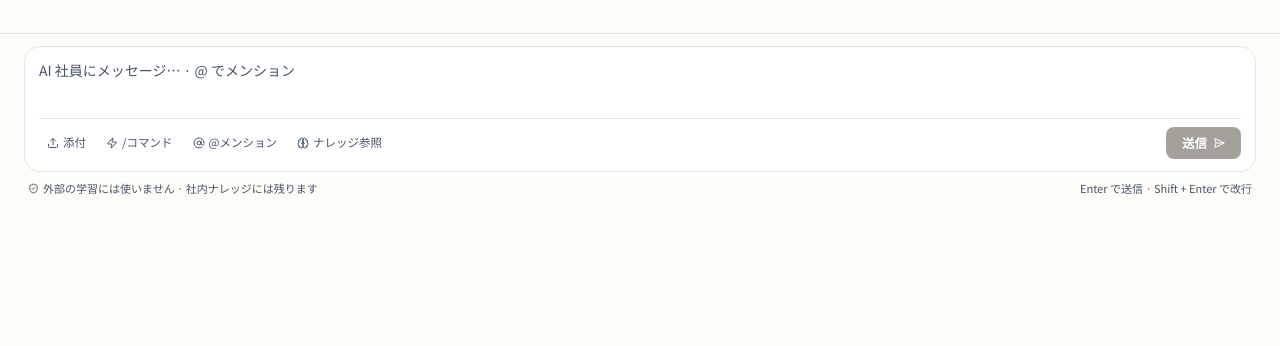
Test: GAP-189 中断 › 中断はエラー表示にしない（失敗ではない）
The image size is (1280, 346).
In the text box named "メッセージを入力": (640, 82) [39, 59, 1241, 104], type "やあ"
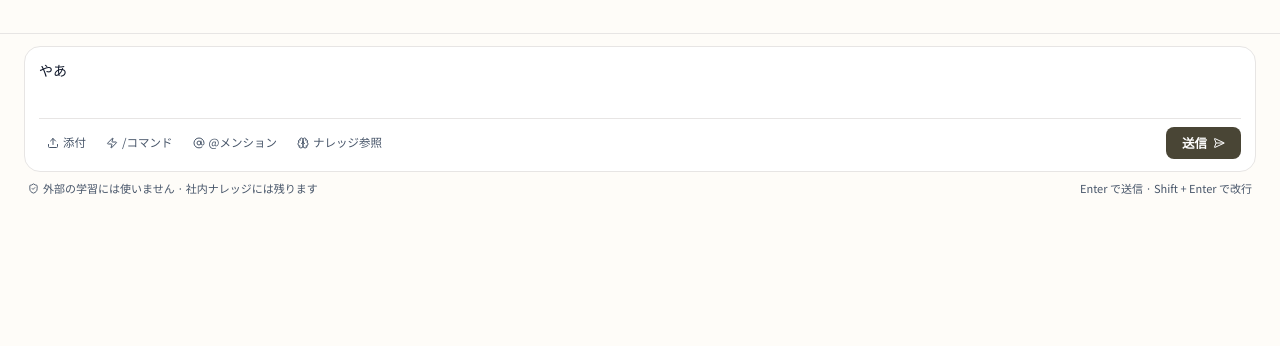
Click the button "送信": (1204, 143) [1166, 126, 1241, 159]
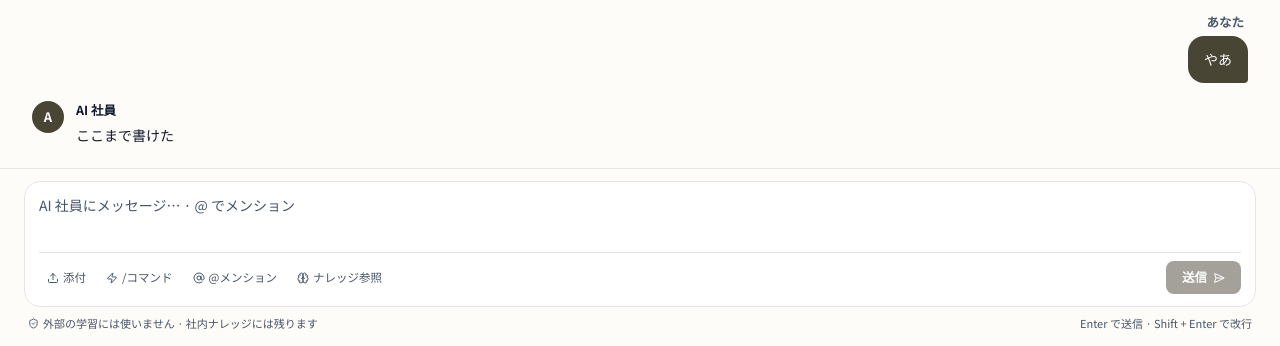
Result: the text "ここまで書けた" is shown at [76, 125, 174, 145]
